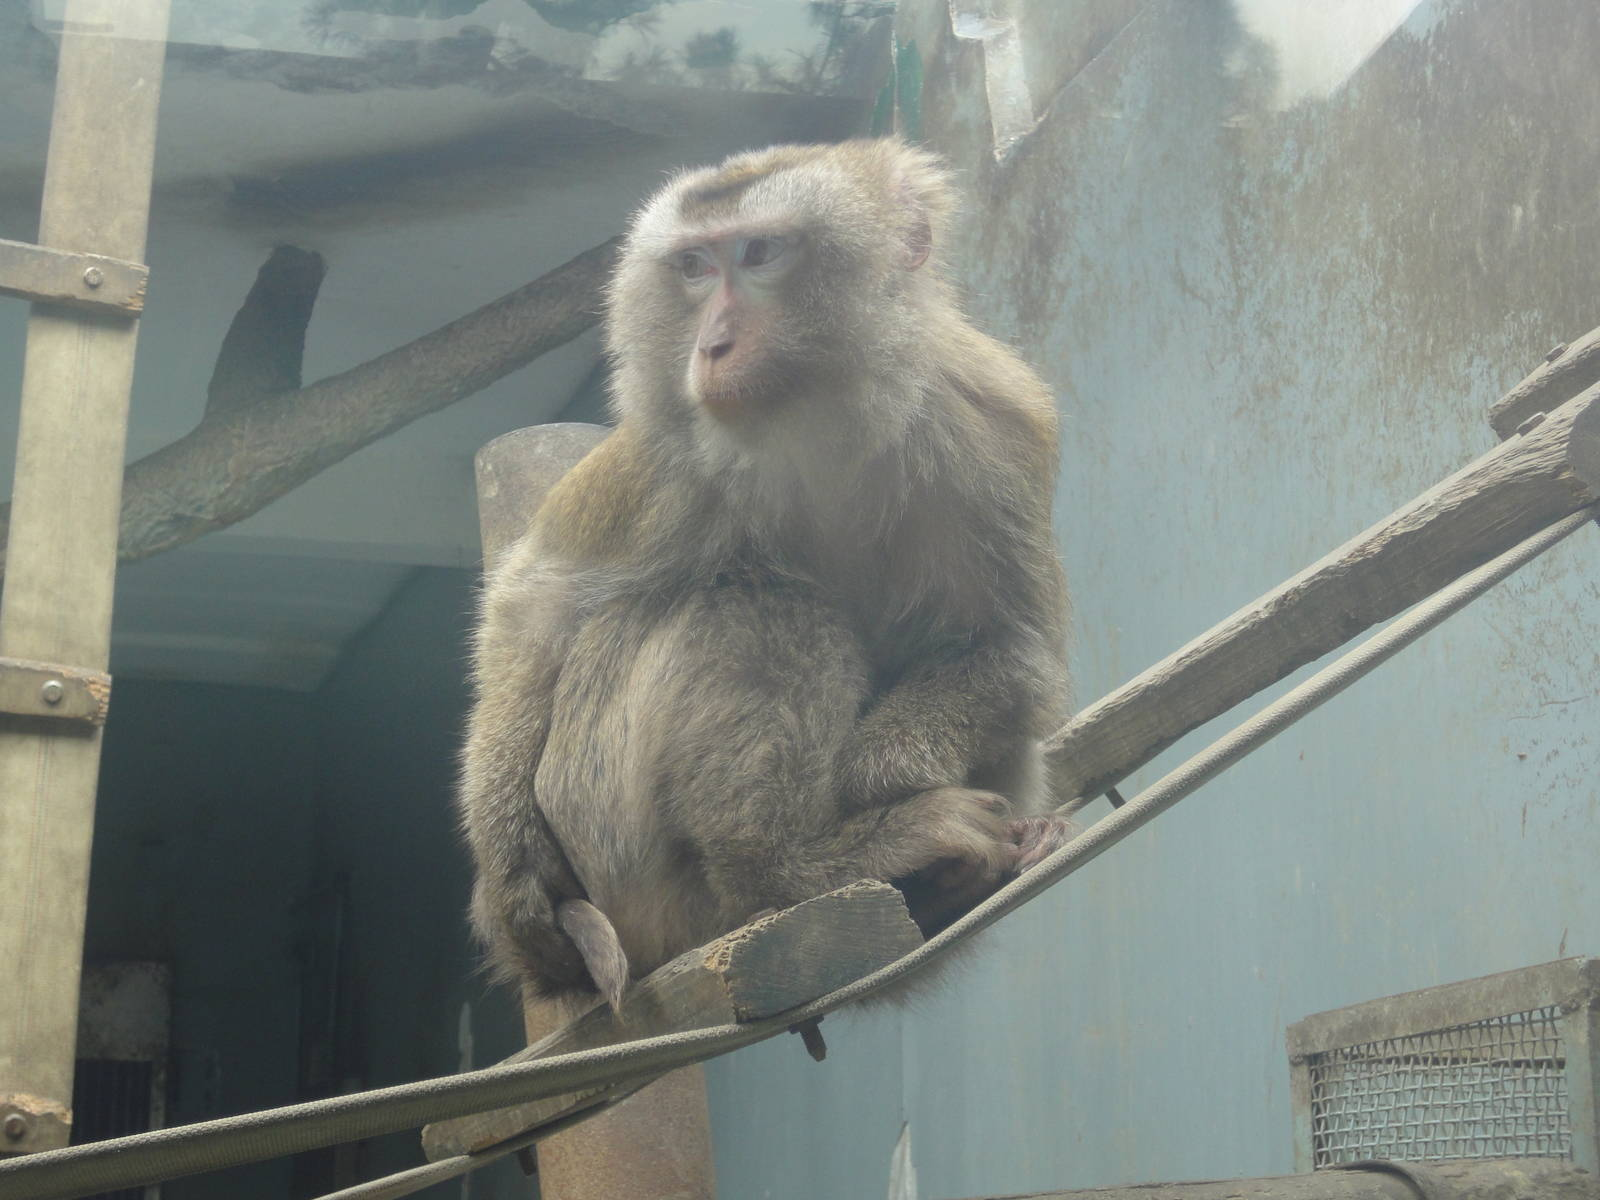monkey: (445, 116, 1085, 1046)
